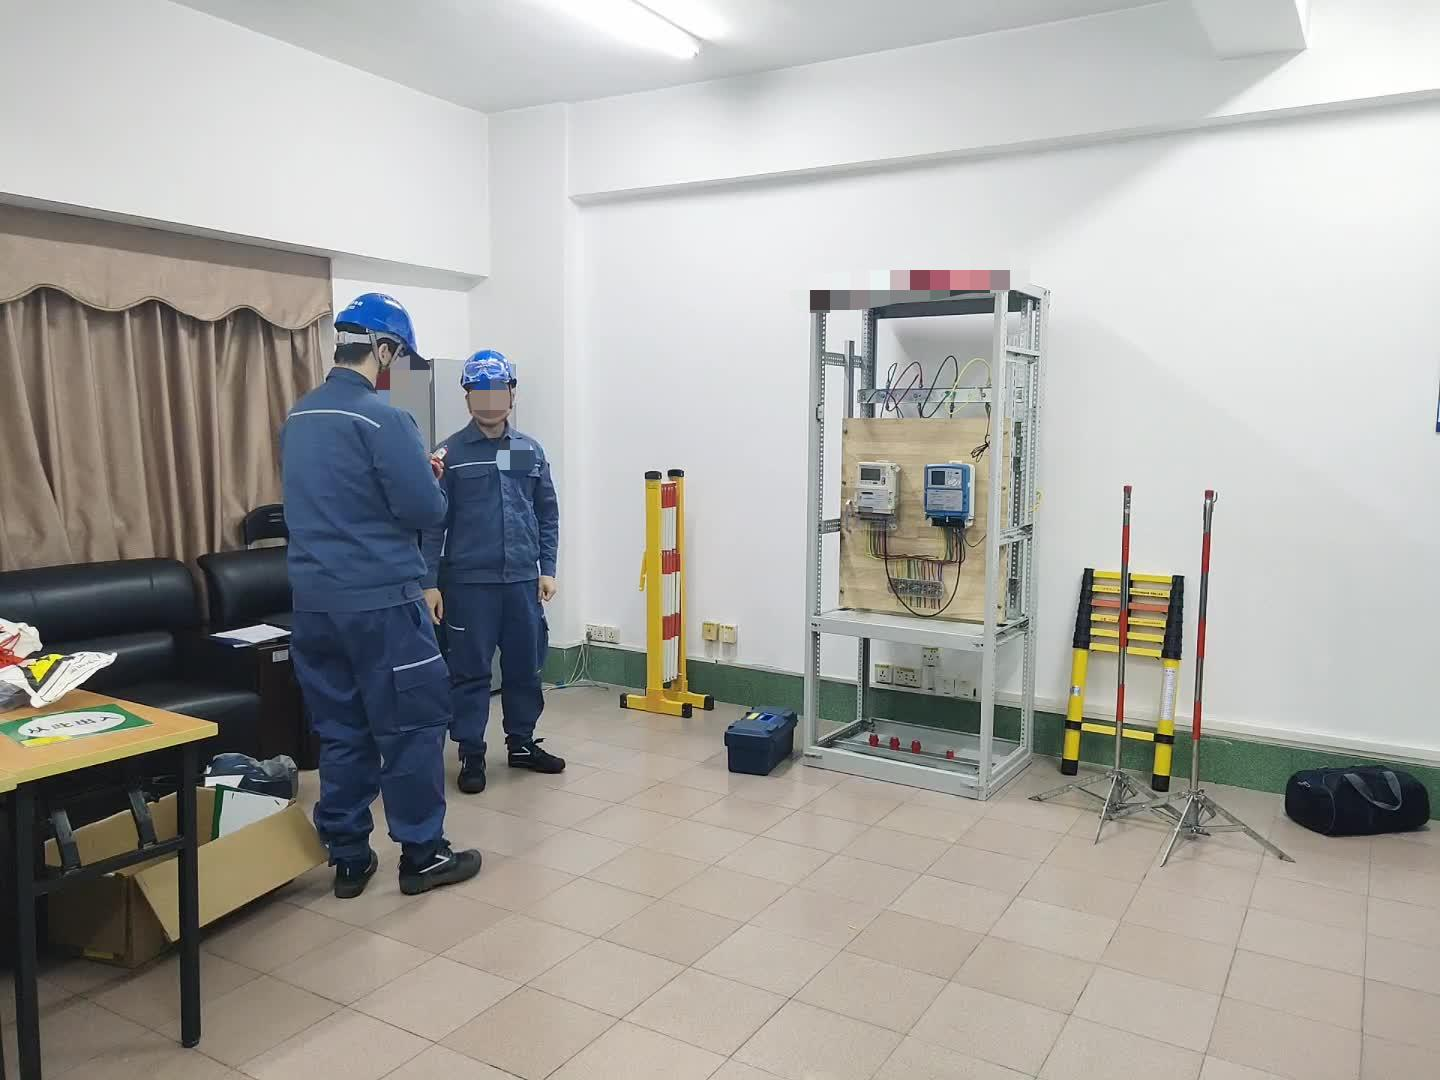halt: (332, 294, 425, 389), (461, 351, 525, 431)
inear: (369, 335, 406, 383)
